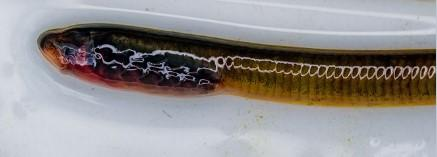Freshwater Eel: (34, 21, 437, 119)
